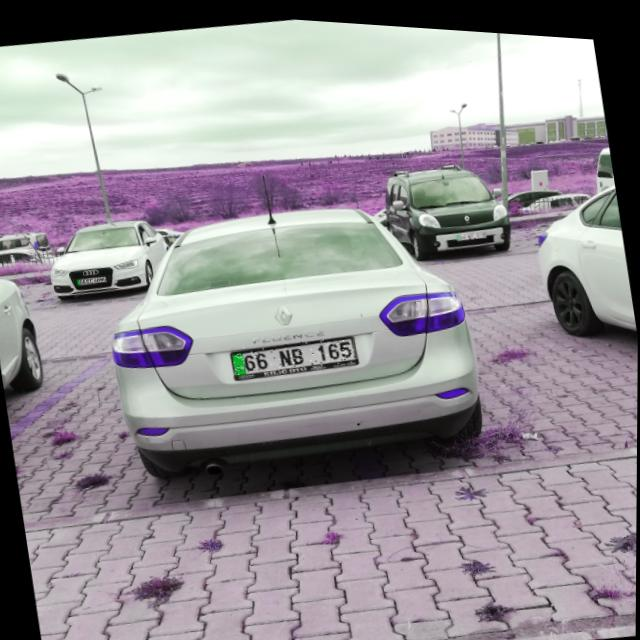license_plate: (231, 326, 359, 378), (457, 223, 487, 236), (77, 275, 106, 285)
